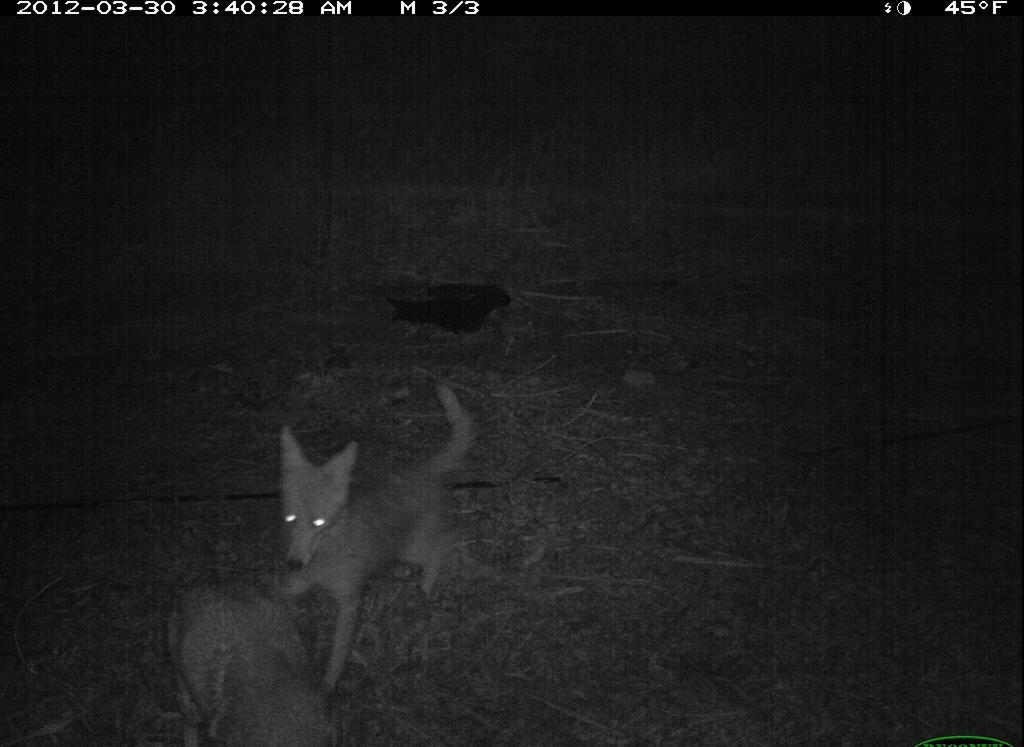coyote: (255, 374, 495, 693), (164, 578, 344, 747)
